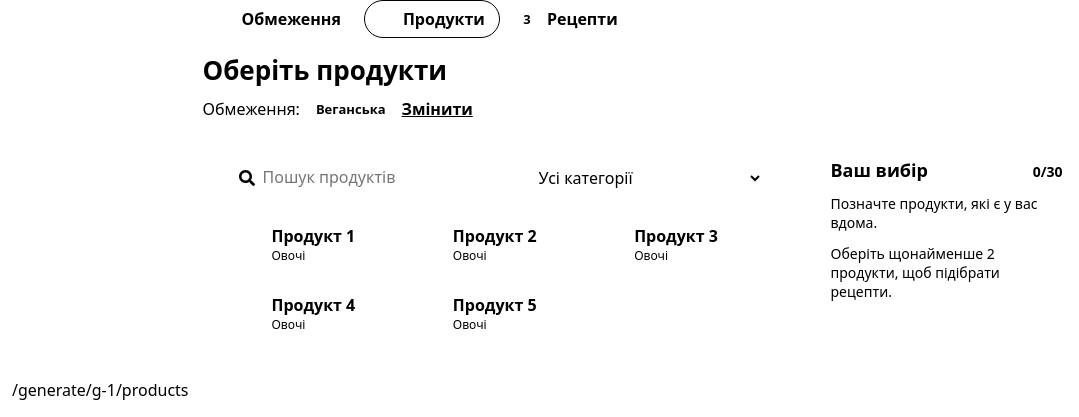
Test: ProductsPage: selection › explains minimum of two
Click the button "Продукт 1 Овочі" at coordinates (313, 244), box [226, 214, 400, 275]
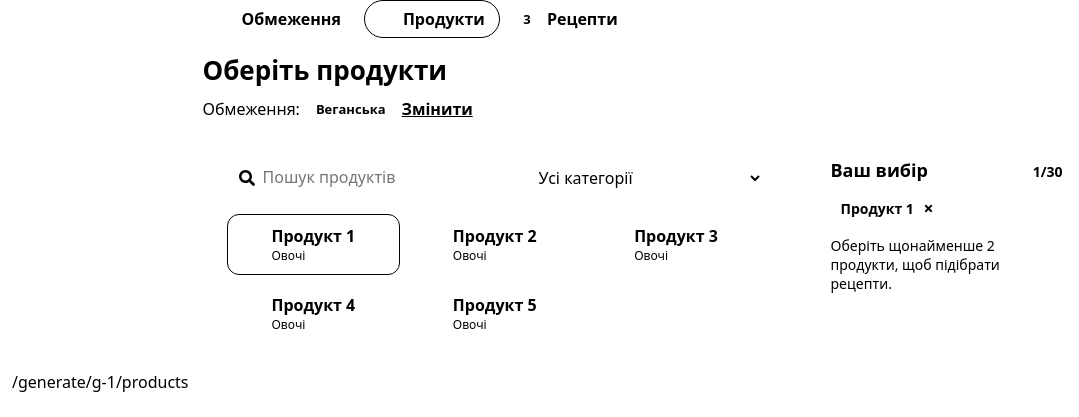
Click the button "Продукт 2 Овочі" at coordinates (494, 244), box [408, 214, 581, 275]
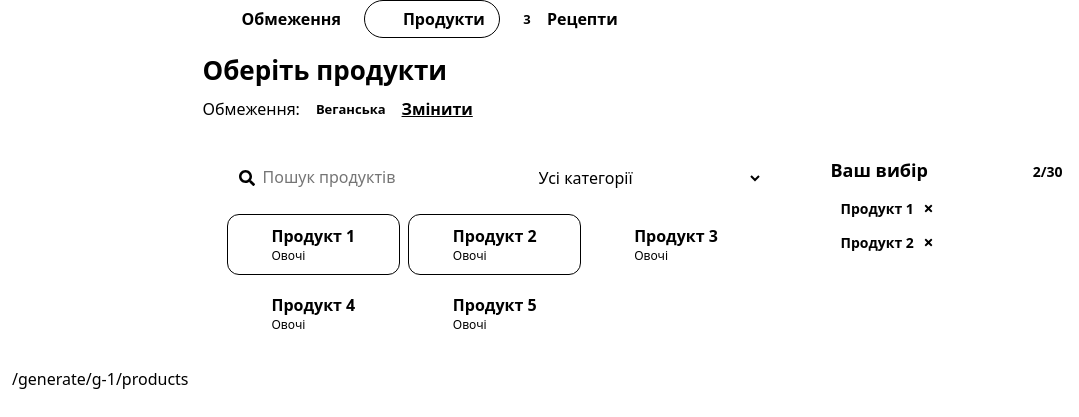
Check: the text "Оберіть щонайменше 2 продукти" is gone
